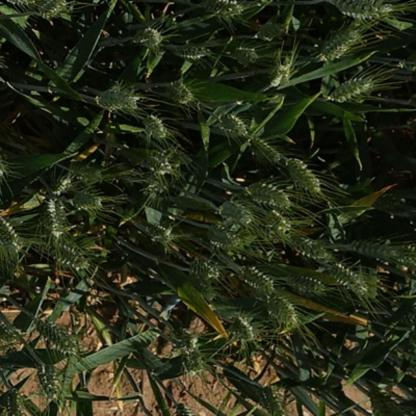whd: (330, 258, 384, 303), (32, 312, 80, 354), (322, 24, 370, 65), (351, 233, 413, 264), (324, 69, 378, 104), (281, 230, 339, 262), (284, 154, 324, 198), (204, 218, 254, 252), (92, 81, 142, 113), (242, 177, 291, 209), (245, 130, 288, 166), (43, 237, 89, 270), (328, 0, 396, 22), (235, 261, 276, 297), (209, 106, 253, 139), (0, 215, 30, 262), (36, 363, 68, 404), (263, 289, 298, 326), (216, 196, 254, 230), (40, 195, 69, 239), (41, 165, 80, 197), (158, 75, 197, 106), (227, 312, 262, 345), (284, 274, 333, 296), (127, 22, 165, 50), (201, 0, 247, 23), (260, 386, 293, 416), (255, 14, 290, 42), (32, 0, 74, 23), (70, 188, 107, 214), (140, 110, 172, 140), (266, 59, 296, 90), (143, 149, 177, 176), (262, 210, 293, 238), (229, 40, 262, 66), (2, 383, 28, 416), (81, 162, 114, 188), (142, 222, 177, 246), (175, 40, 210, 62), (188, 259, 218, 283), (143, 176, 170, 201), (174, 328, 196, 352), (182, 352, 202, 376), (0, 321, 19, 344)
